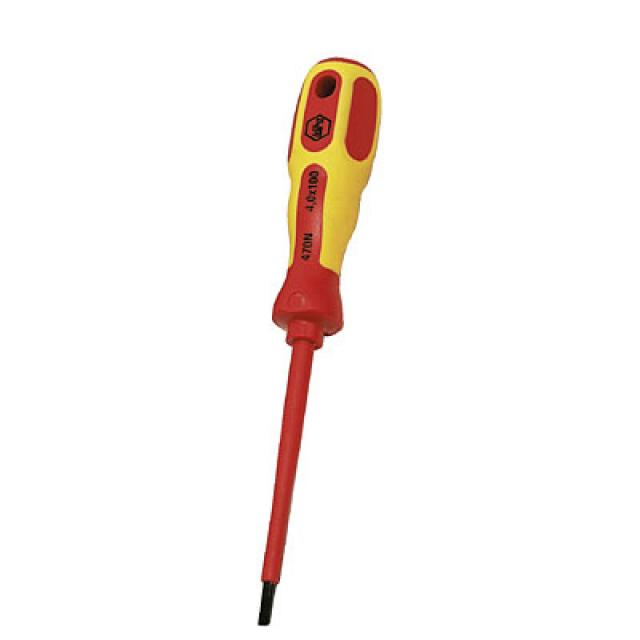screw_driver: (261, 59, 384, 626)
